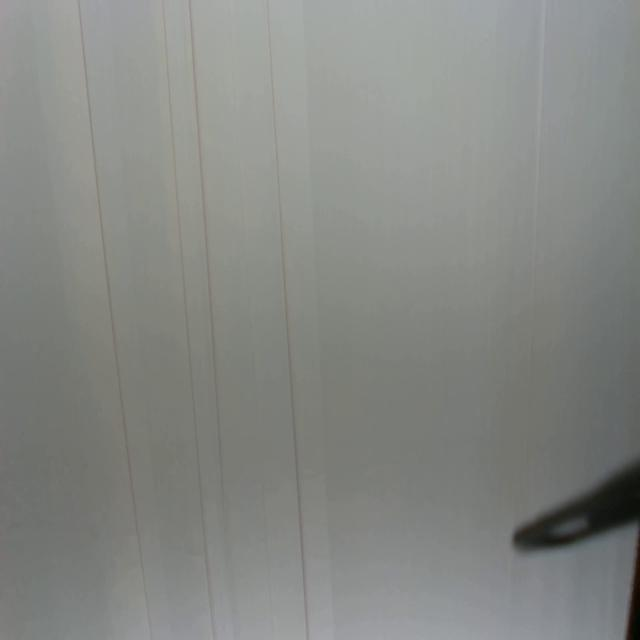crease: (78, 0, 151, 639), (164, 0, 215, 640), (227, 0, 275, 638), (266, 0, 310, 640), (187, 0, 229, 555), (520, 0, 548, 471)
